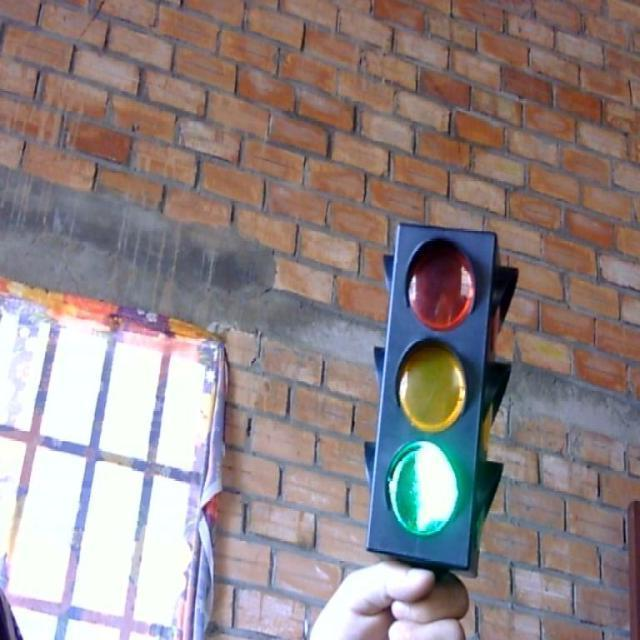green_light: (364, 222, 516, 572)
